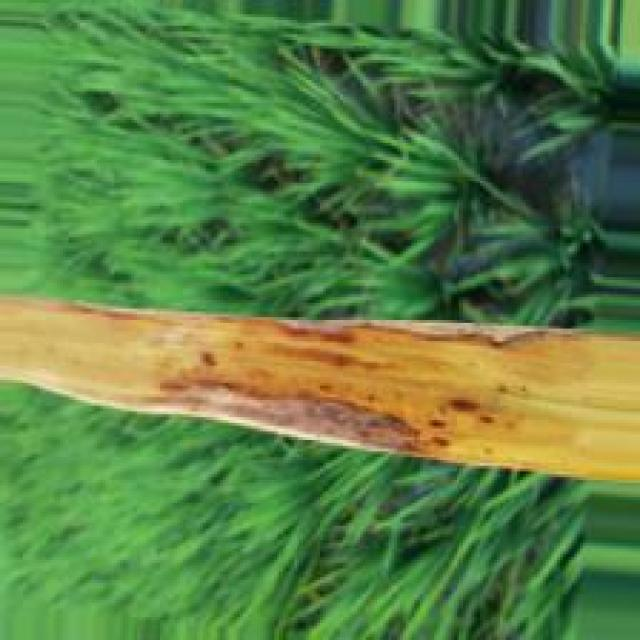Rice False Smut: (0, 297, 637, 483)
